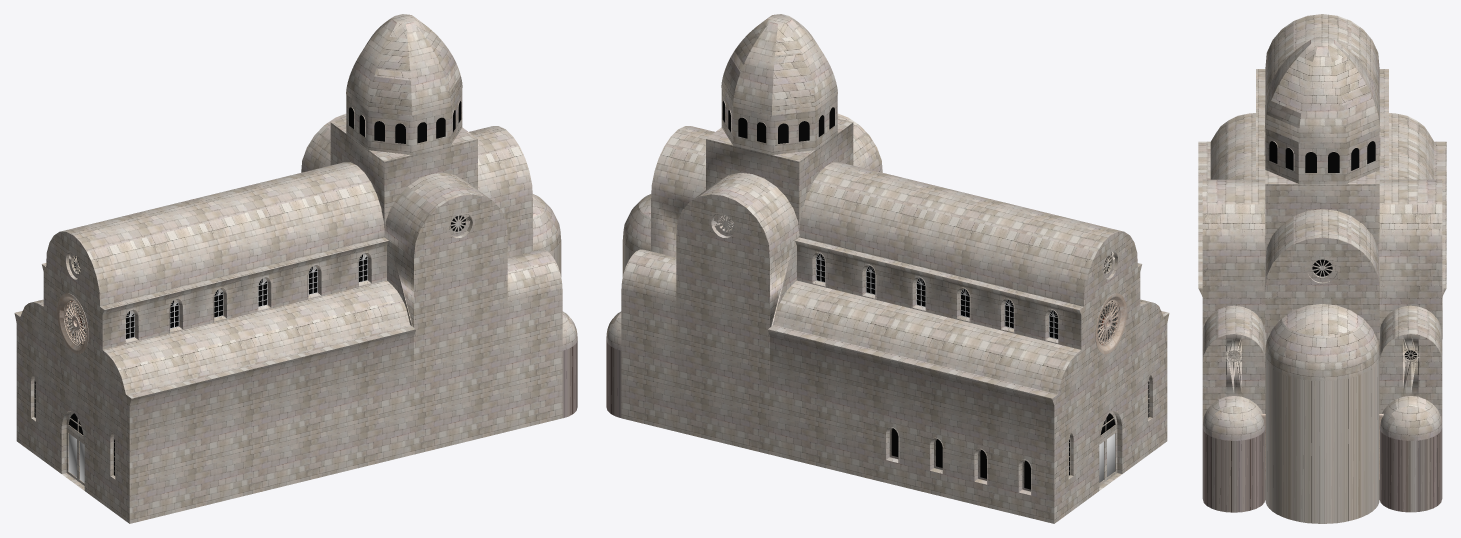
File: sibenik.glb
3 views of the same model, side by side, from view 1: azimuth 30°, elevation 25°; view 2: azimuth 150°, elevation 25°; view 3: azimuth 270°, elevation 25° (orthographic). The views are drawn at different scales.
Parts seen in each view (by area): view 1: node_b3171cc0_7121_486d_9edc_ec544f427cbd_mesh0; view 2: node_b3171cc0_7121_486d_9edc_ec544f427cbd_mesh0; view 3: node_b3171cc0_7121_486d_9edc_ec544f427cbd_mesh0.
Boxes of the visible parts, left/top/right/bottom form: node_b3171cc0_7121_486d_9edc_ec544f427cbd_mesh0: left=14, top=14, right=577, bottom=523; node_b3171cc0_7121_486d_9edc_ec544f427cbd_mesh0: left=606, top=14, right=1169, bottom=523; node_b3171cc0_7121_486d_9edc_ec544f427cbd_mesh0: left=1198, top=14, right=1446, bottom=523.
Bounding box in the file's own units: 40.28 × 30.61 × 16.99.
Materials: 15 (8 with a texture image).
